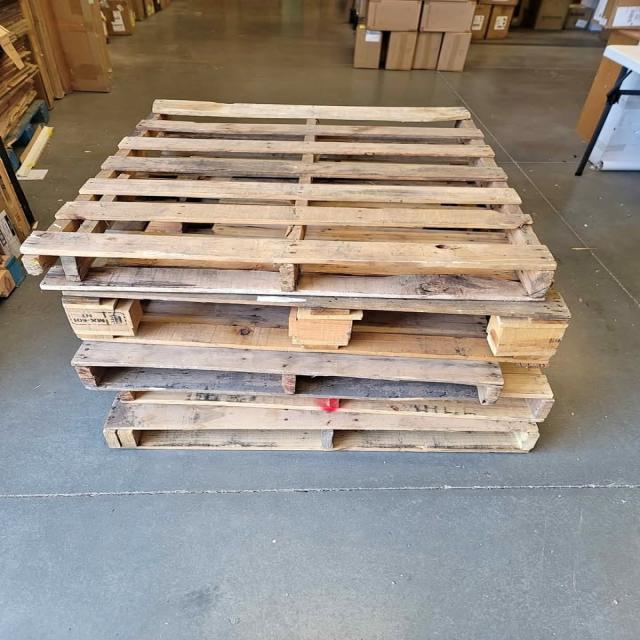non-igps: (14, 82, 564, 306), (59, 280, 584, 373), (67, 336, 511, 410), (114, 356, 560, 428), (98, 386, 544, 458)
